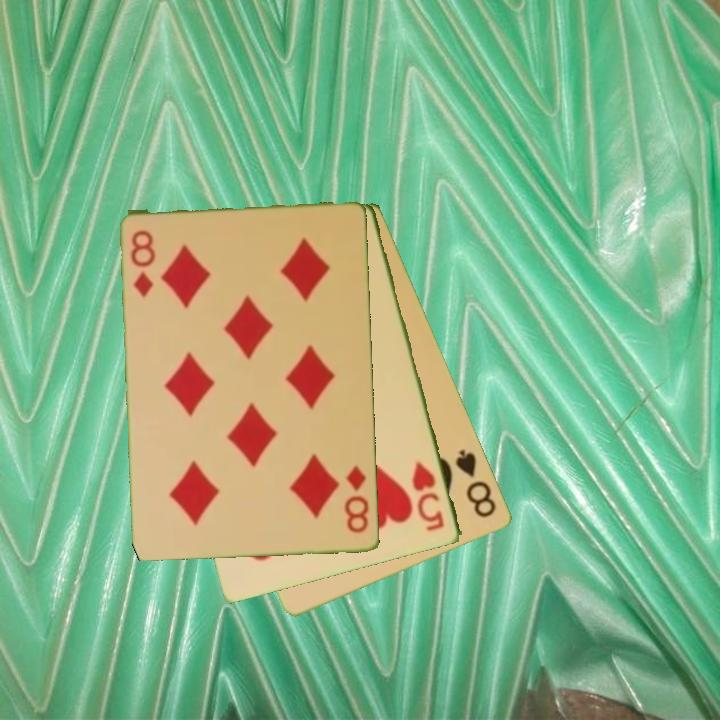5h: (409, 458, 448, 534)
8d: (127, 228, 159, 301), (342, 462, 372, 537)
8s: (452, 446, 500, 521)
